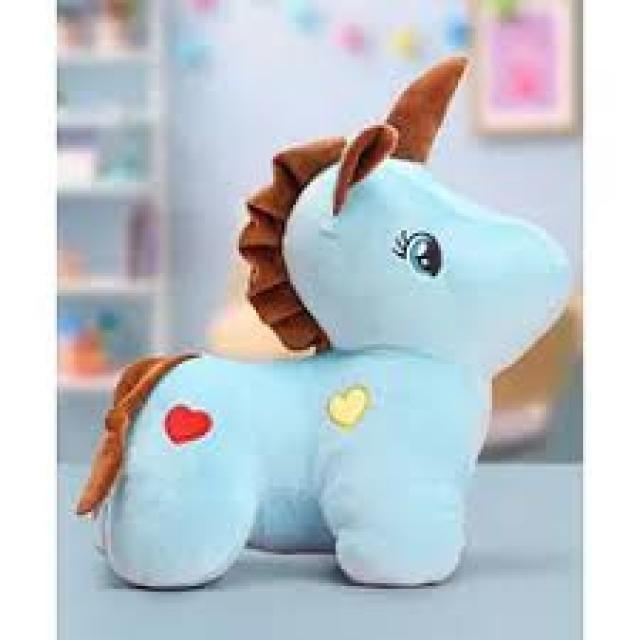soft-toy: (78, 58, 569, 587)
